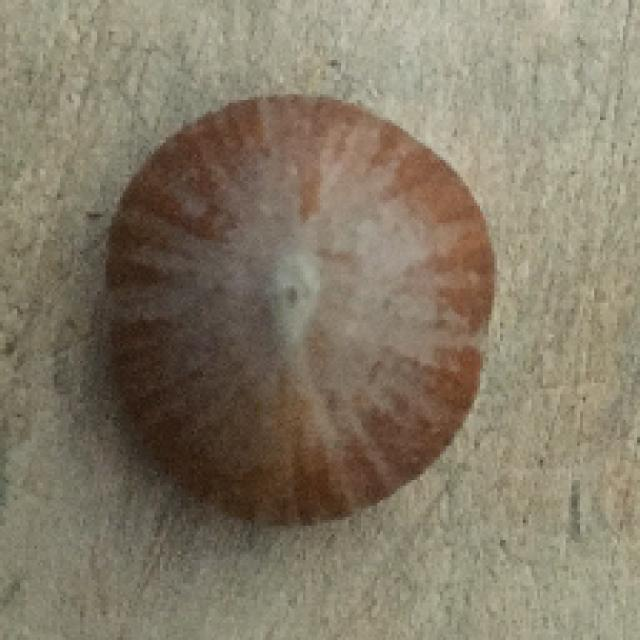QualityHazelnut: (101, 95, 496, 523)
